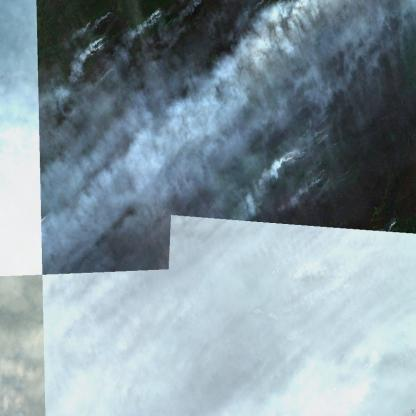fire: (288, 118, 334, 158), (309, 158, 336, 196), (82, 7, 117, 29), (96, 32, 109, 56)
